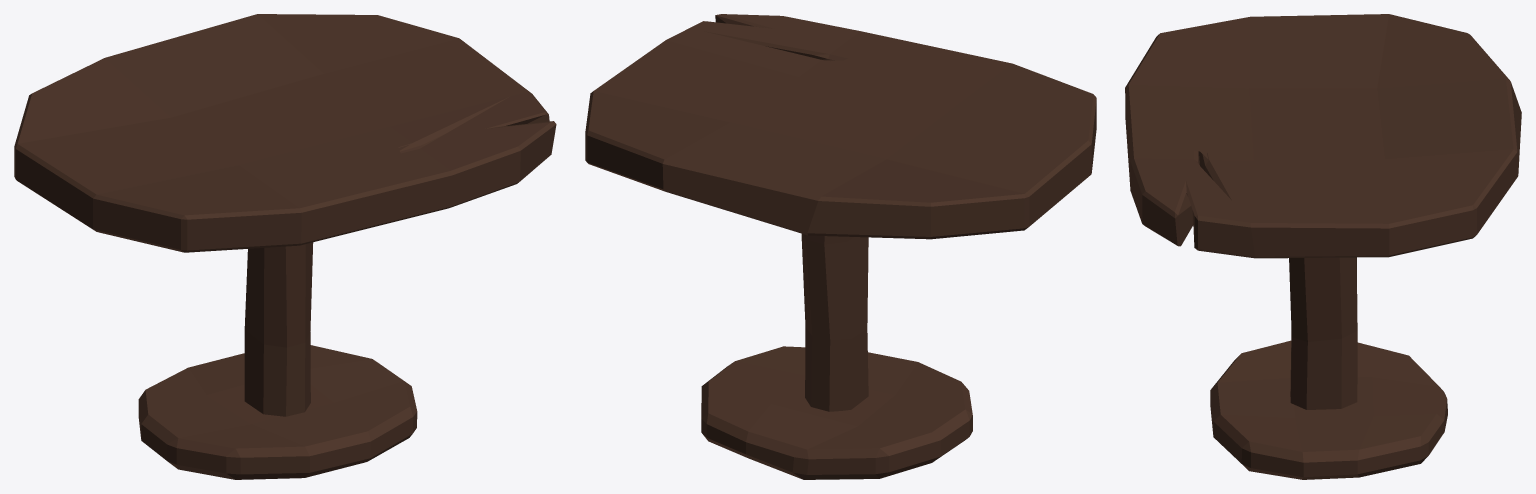
Rendered from table1.fbx.
3 renders of one model, left to right at view 1: azimuth 30°, elevation 25°; view 2: azimuth 150°, elevation 25°; view 3: azimuth 270°, elevation 25°, orthographic. The views are drawn at different scales.
Visible parts, largest first — view 1: table; view 2: table; view 3: table.
Boxes of the visible parts, bbox=[...] form: table: bbox=[14, 14, 556, 479]; table: bbox=[585, 14, 1096, 479]; table: bbox=[1125, 14, 1521, 479].
Size of the model in its own units: 127 by 89.33 by 101.
